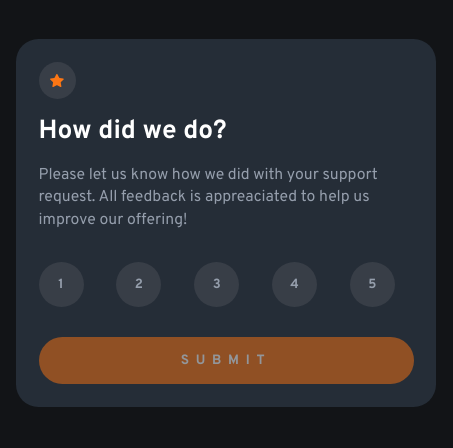
Test case: Integration Test App › should display the thank you screen on user feedback 1
Click the button named "feeback-1" at (61, 285), box left=38, top=262, right=84, bottom=307
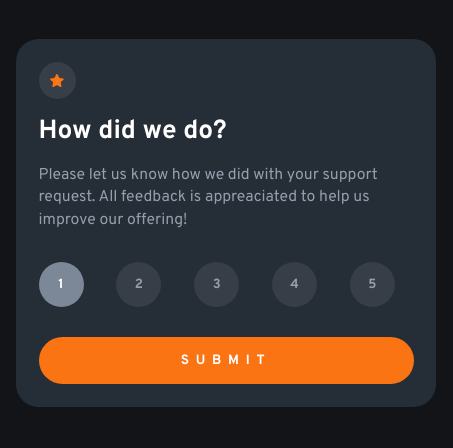
Now the button "submit" is enabled
Click the button "submit" at (226, 361), box left=38, top=337, right=414, bottom=384
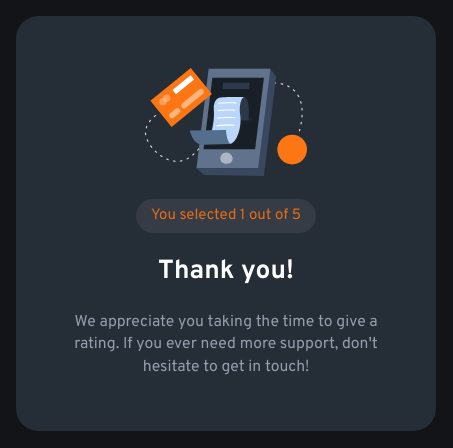
Now the heading "Thank you!" is shown, box left=158, top=255, right=294, bottom=288
Now the heading named "result" reads "You selected 1 out of 5", box left=136, top=198, right=316, bottom=232
